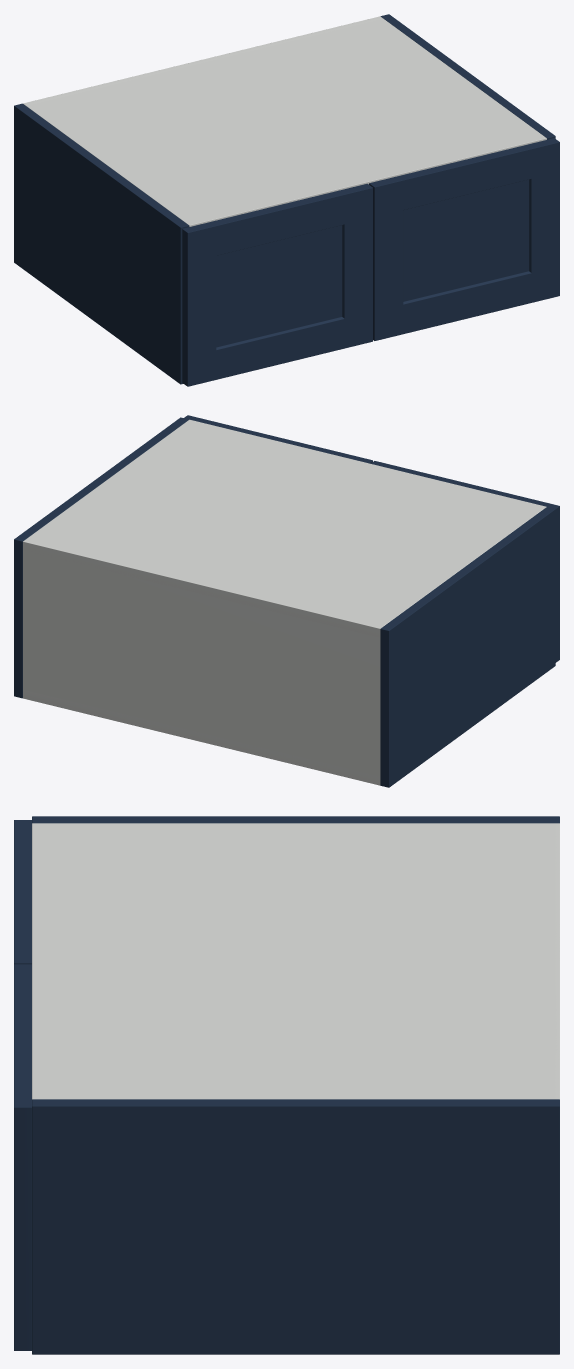
File: oppein-pb-bss-w301224.glb
3 renders of one model, top to bottom at view 1: azimuth 30°, elevation 25°; view 2: azimuth 150°, elevation 25°; view 3: azimuth 270°, elevation 25°, orthographic. The views are drawn at different scales.
Visible parts, largest first — view 1: Cabinet top, Door, Door.001, Cabinet side, Cabinet side.001, Cabinet back; view 2: Cabinet top, Cabinet back, Cabinet side, Cabinet side.001, Cabinet bottom, Door, Door.001; view 3: Cabinet top, Cabinet side.001, Door.001, Cabinet side, Cabinet back, Door.
Boxes of the visible parts, x1=… form: Cabinet top: x1=26, y1=16, x2=546, y2=226; Door: x1=182, y1=183, x2=372, y2=386; Door.001: x1=369, y1=138, x2=559, y2=340; Cabinet side: x1=14, y1=103, x2=189, y2=384; Cabinet side.001: x1=380, y1=14, x2=555, y2=139; Cabinet back: x1=23, y1=16, x2=382, y2=105; Cabinet top: x1=23, y1=419, x2=546, y2=636; Cabinet back: x1=23, y1=539, x2=382, y2=785; Cabinet side: x1=380, y1=507, x2=555, y2=787; Cabinet side.001: x1=14, y1=417, x2=188, y2=698; Cabinet bottom: x1=23, y1=689, x2=380, y2=784; Door: x1=371, y1=461, x2=559, y2=662; Door.001: x1=184, y1=415, x2=372, y2=463; Cabinet top: x1=32, y1=823, x2=559, y2=1099; Cabinet side.001: x1=32, y1=1099, x2=559, y2=1354; Door.001: x1=14, y1=964, x2=31, y2=1350; Cabinet side: x1=32, y1=816, x2=559, y2=823; Cabinet back: x1=549, y1=823, x2=559, y2=1099; Door: x1=14, y1=820, x2=31, y2=964.
Bounding box in the file's own units: 0.762 × 0.3048 × 0.6064.
